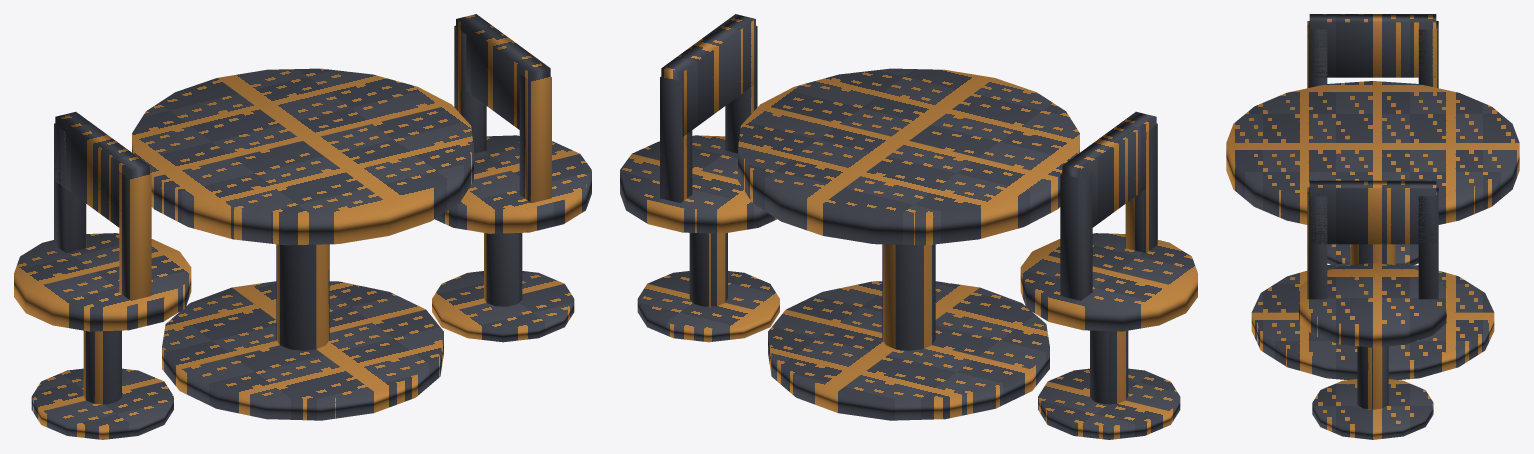
File: SM_Prop_CairoCafeTable_A.obj
3 renders of one model, left to right at view 1: azimuth 30°, elevation 25°; view 2: azimuth 150°, elevation 25°; view 3: azimuth 270°, elevation 25°, orthographic. The views are drawn at different scales.
Visible parts, largest first — view 1: SM_Prop_CairoCafeTable_A; view 2: SM_Prop_CairoCafeTable_A; view 3: SM_Prop_CairoCafeTable_A.
Part boxes in pixels (x1,y1,x2,y2): SM_Prop_CairoCafeTable_A: [14, 14, 591, 439]; SM_Prop_CairoCafeTable_A: [620, 14, 1197, 439]; SM_Prop_CairoCafeTable_A: [1226, 14, 1519, 439].
Bounding box in the file's own units: 2.16 × 1 × 1.16.
Materials: 1 (1 with a texture image).
